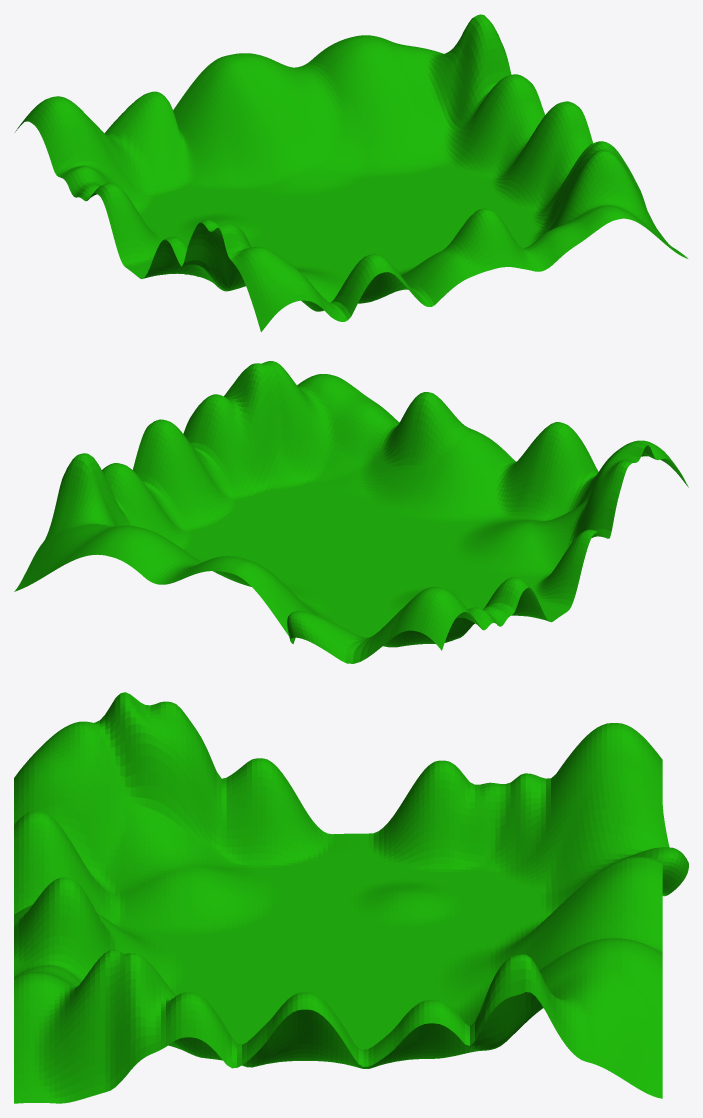
Rendered from terrain.gltf.
3 renders of one model, top to bottom at view 1: azimuth 30°, elevation 25°; view 2: azimuth 150°, elevation 25°; view 3: azimuth 270°, elevation 25°, orthographic. The views are drawn at different scales.
Visible parts, largest first — view 1: Plane.032; view 2: Plane.032; view 3: Plane.032.
Boxes of the visible parts, x1,y1,x2,y2 form: Plane.032: (15, 14, 687, 331); Plane.032: (14, 361, 688, 663); Plane.032: (14, 692, 688, 1103).
Bounding box in the file's own units: 7.53 × 1.83 × 7.84.
1 material, 1 textured.
